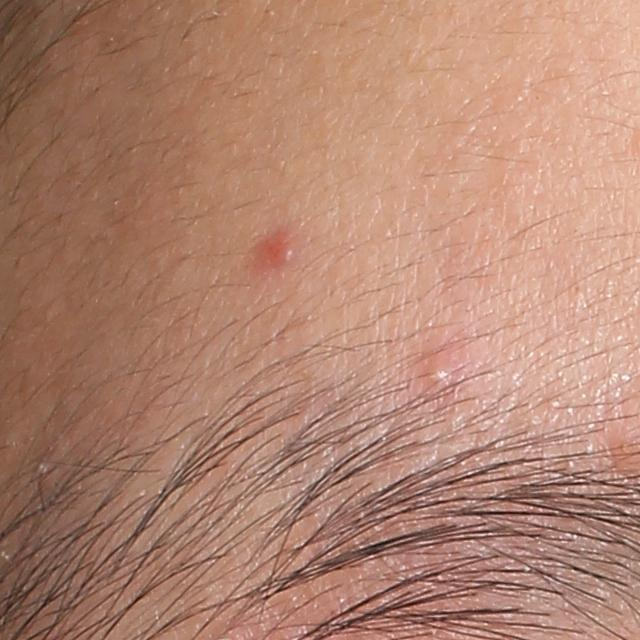papule: (252, 224, 297, 265)
